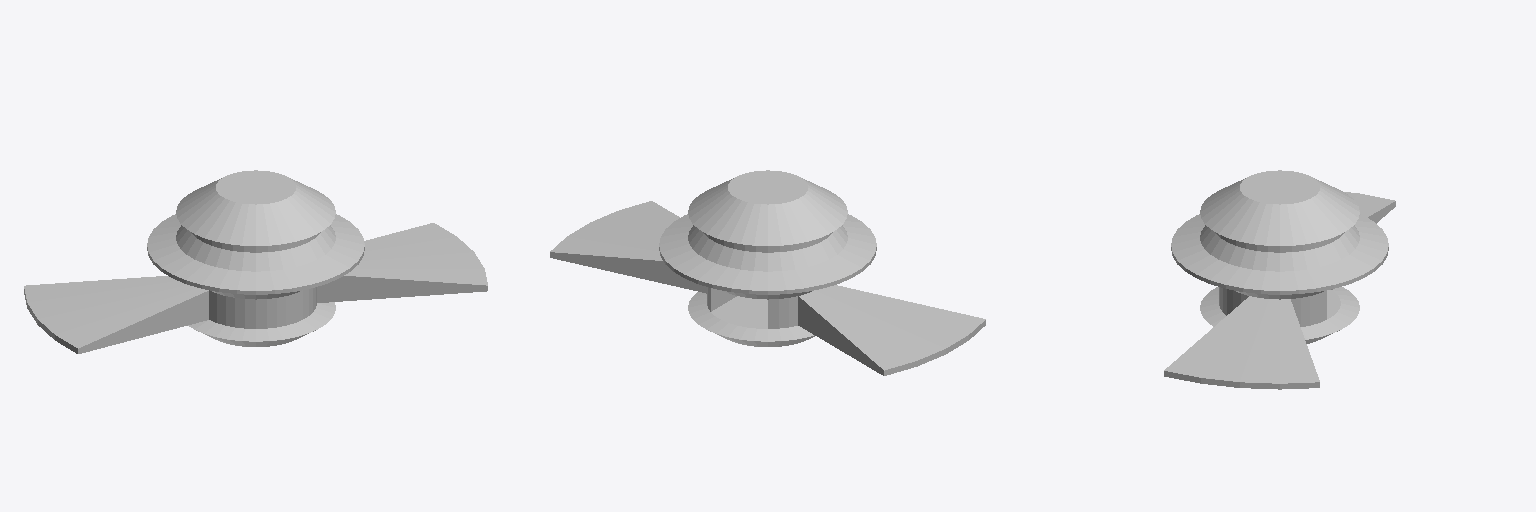
The model's file is station.obj.
The picture shows the model from 3 angles: view 1: azimuth 30°, elevation 25°; view 2: azimuth 150°, elevation 25°; view 3: azimuth 270°, elevation 25°; orthographic projection.
Visible parts, largest first — view 1: Station; view 2: Station; view 3: Station.
Part boxes in pixels (x1,y1,x2,y2): Station: (24, 170, 487, 353); Station: (550, 170, 985, 375); Station: (1164, 170, 1395, 389).
Bounding box in the file's own units: 580 × 189 × 290.